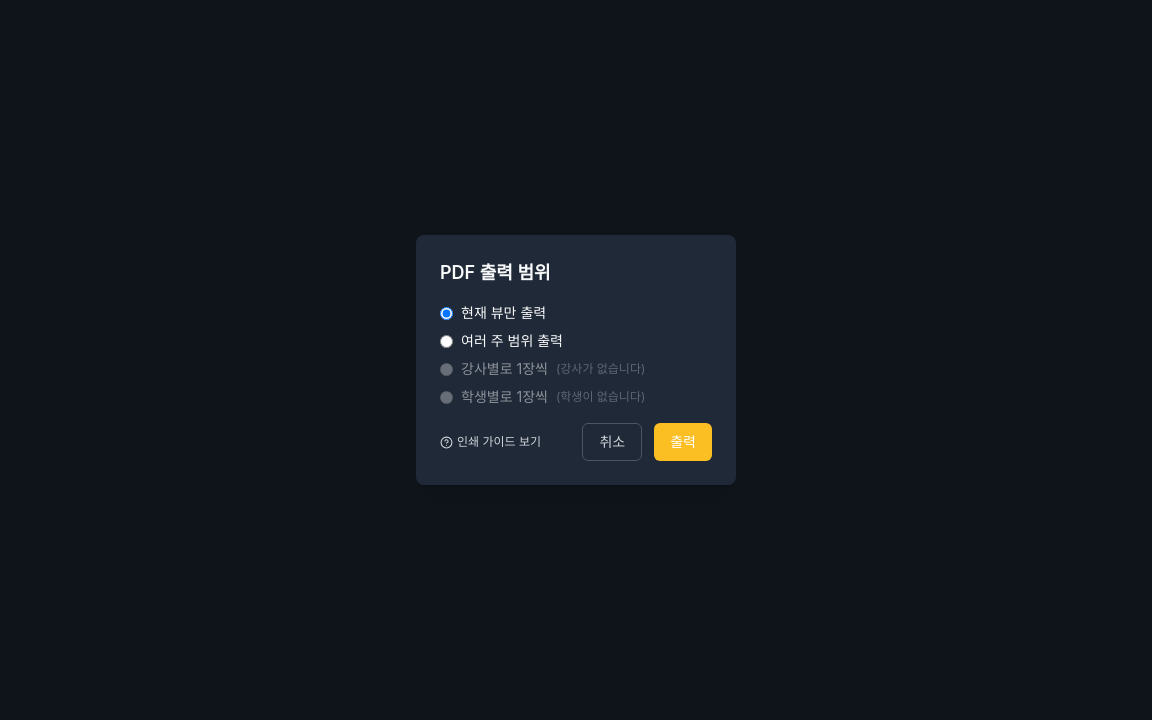
PdfExportRangeModal › 종료일 < 시작일 시 출력 버튼 disabled + 에러 메시지
Click the radio button labelled "여러 주 범위 출력": (446, 341) [440,334,453,348]
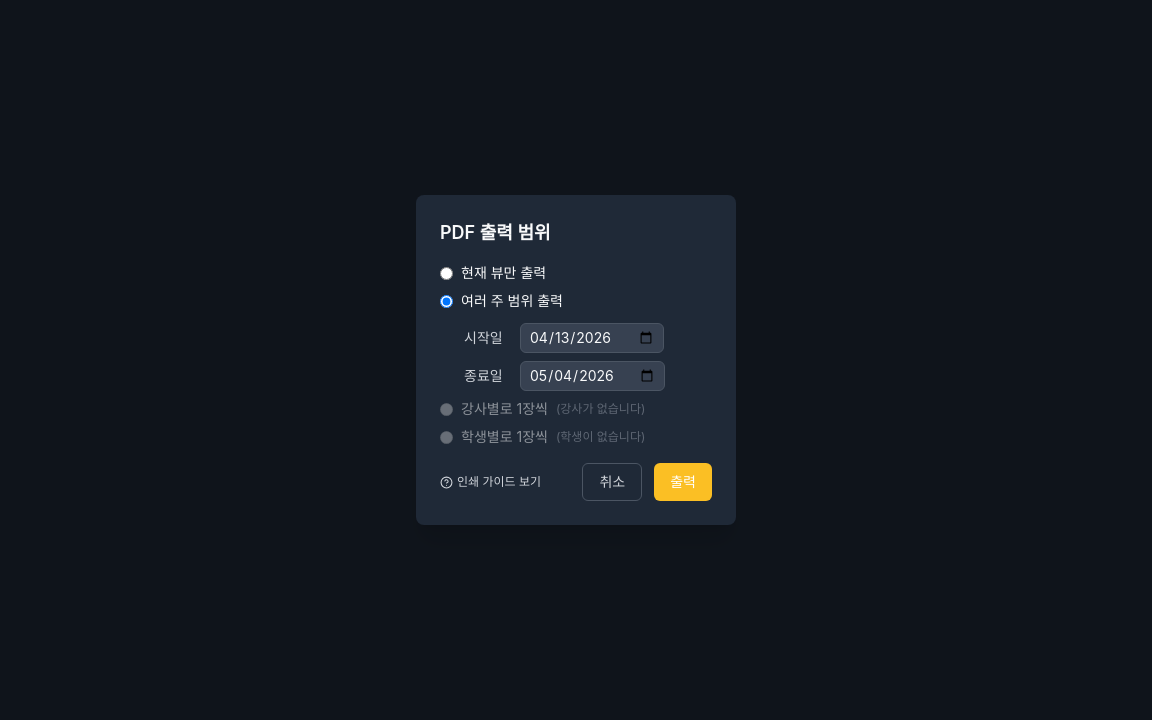
In the date field labelled "시작일": (592, 338) [520,323,664,353], type "2026-05-03"
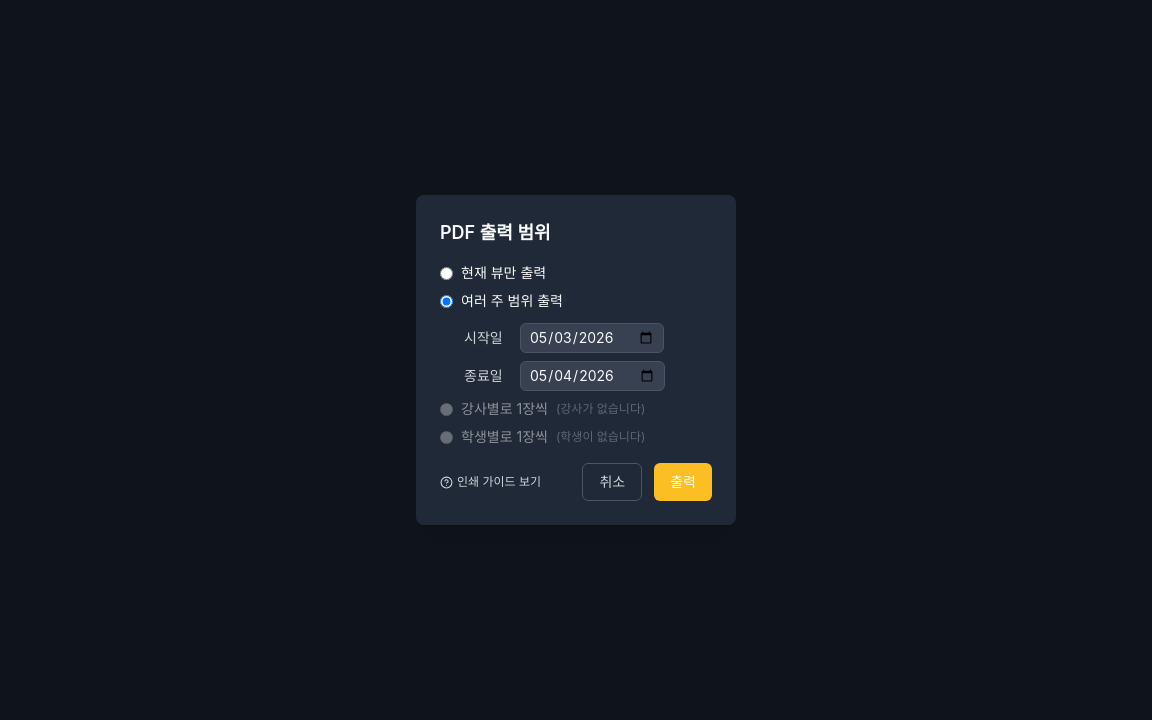
In the date field labelled "종료일": (592, 376) [520,361,665,391], type "2026-04-13"
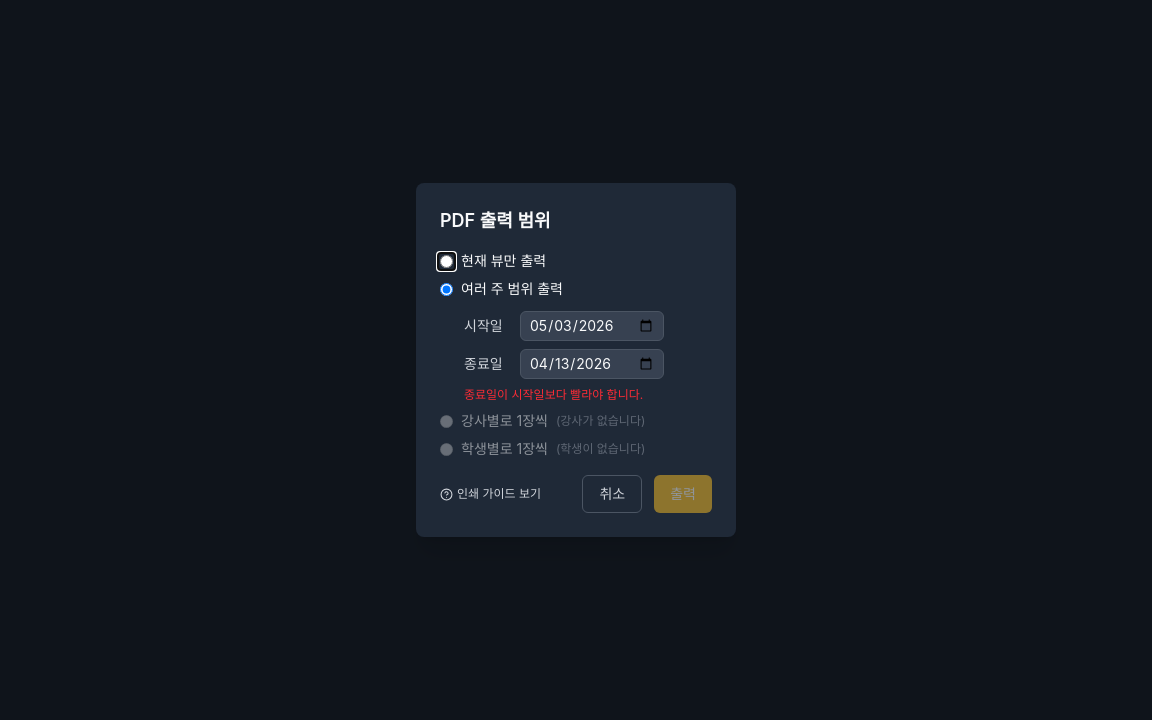
Result: the button "출력" is disabled at [654,475,712,513]
Result: the text "종료일이 시작일보다 빨라야 합니다." is shown at [464,387,643,402]
